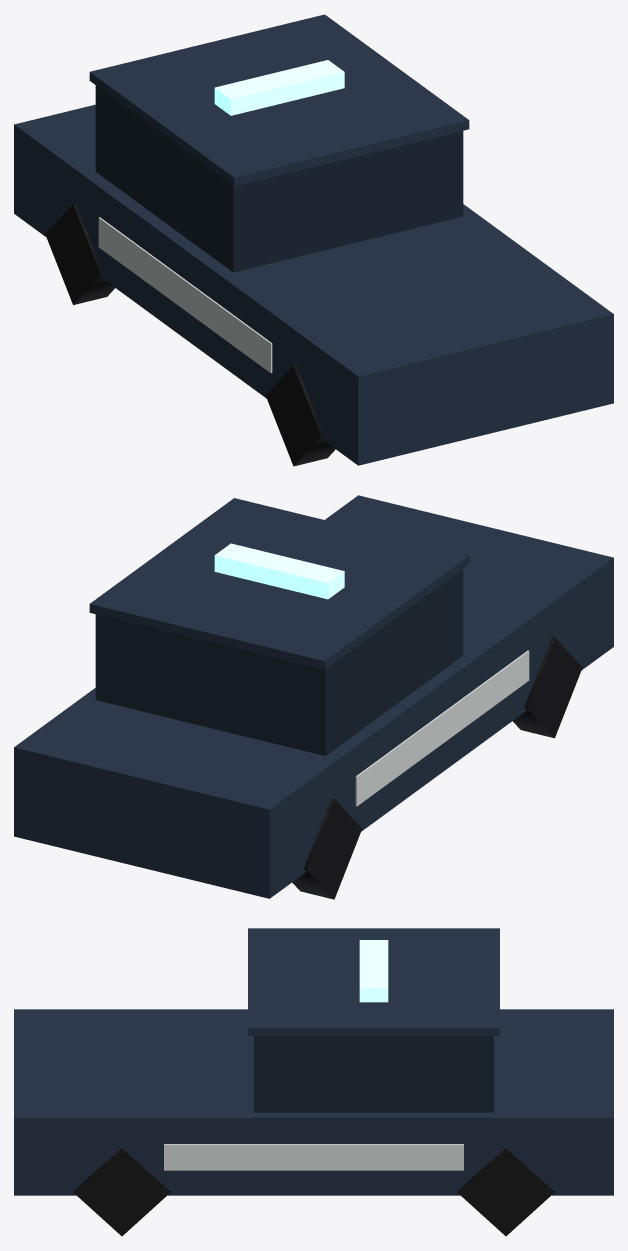
Rendered from veh_ground_police_car_a06_lod2.glb.
3 renders of one model, top to bottom at view 1: azimuth 30°, elevation 25°; view 2: azimuth 150°, elevation 25°; view 3: azimuth 270°, elevation 25°, orthographic. The views are drawn at different scales.
Parts seen in each view (by area): view 1: body, wheel_2, wheel_0; view 2: body, wheel_2, wheel_0; view 3: body, wheel_1, wheel_3.
Boxes of the visible parts, bbox=[...] form: body: bbox=[14, 14, 613, 465]; wheel_2: bbox=[265, 365, 335, 466]; wheel_0: bbox=[45, 203, 114, 304]; body: bbox=[14, 495, 613, 898]; wheel_2: bbox=[513, 636, 582, 738]; wheel_0: bbox=[292, 798, 361, 899]; body: bbox=[14, 928, 613, 1195]; wheel_1: bbox=[457, 1148, 554, 1236]; wheel_3: bbox=[73, 1148, 170, 1236].
Bounding box in the file's own units: 1.84 × 1.68 × 4.2.
